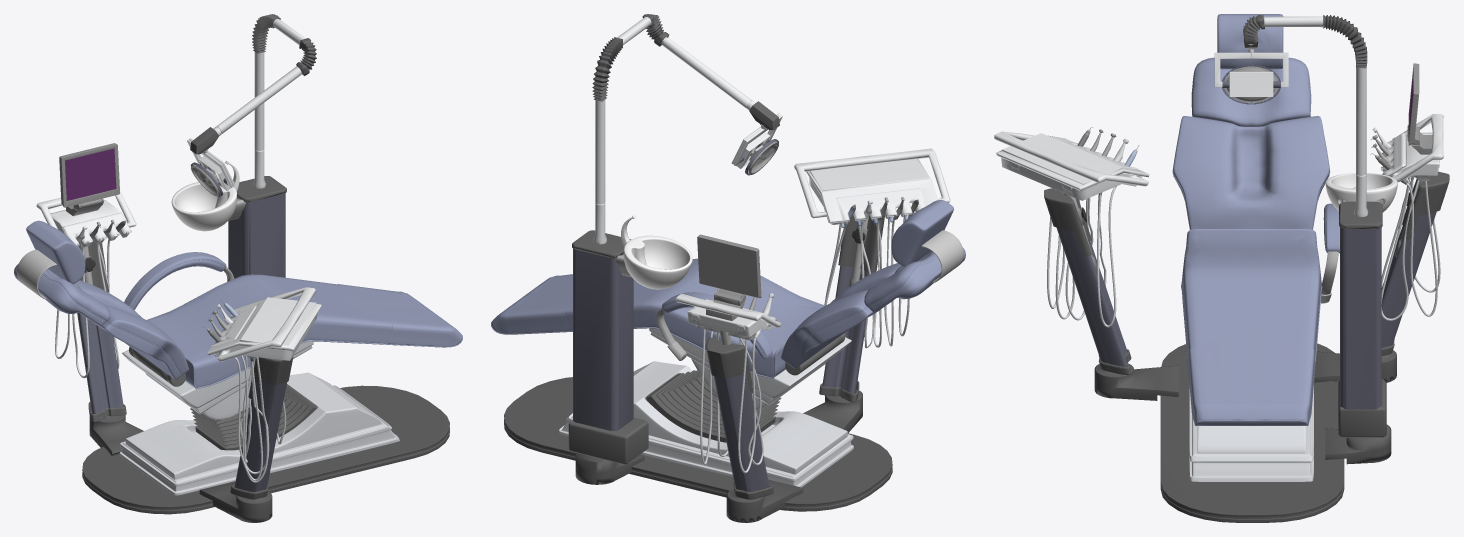
Rendered from Armchair_dental compressed.glb.
3 renders of one model, left to right at view 1: azimuth 30°, elevation 25°; view 2: azimuth 150°, elevation 25°; view 3: azimuth 270°, elevation 25°, orthographic. The views are drawn at different scales.
Parts seen in each view (by area): view 1: objArmcha4, objArmcha2, Rectangle1, objArmcha7, Rectangle0, Object03, Rectangle5, Line183, Line189, Rectangle2, Box02, Sphere01 (+19 smaller); view 2: Rectangle0, objArmcha4, Rectangle1, objArmcha2, objArmcha7, Rectangle5, ChamferBox, Line189, Box02, Object03, Arch35_022, Sphere01 (+19 smaller); view 3: objArmcha7, objArmcha2, Rectangle1, Object03, Rectangle0, objArmcha4, Line183, ChamferBox, Rectangle5, Line09, Line189, Circle01 (+17 smaller).
Boxes of the visible parts, box(x1,y1,x2,y2) form: objArmcha4: box(119, 372, 399, 495); objArmcha2: box(147, 274, 462, 389); Rectangle1: box(82, 385, 449, 506); objArmcha7: box(14, 264, 188, 379); Rectangle0: box(228, 193, 285, 278); Object03: box(337, 284, 462, 346); Rectangle5: box(207, 297, 321, 355); Line183: box(234, 380, 286, 491); Line189: box(77, 313, 123, 419); Rectangle2: box(82, 385, 449, 514); Box02: box(190, 385, 317, 450); Sphere01: box(171, 182, 236, 231); Rectangle0: box(573, 248, 633, 430); objArmcha4: box(558, 361, 853, 487); Rectangle1: box(504, 377, 892, 503); objArmcha2: box(491, 258, 824, 378); objArmcha7: box(781, 248, 965, 368); Rectangle5: box(806, 159, 937, 223); ChamferBox: box(568, 417, 648, 484); Line189: box(714, 374, 769, 491); Box02: box(646, 370, 781, 442); Object03: box(491, 274, 572, 333); Arch35_022: box(697, 234, 761, 297); Sphere01: box(623, 235, 692, 289); objArmcha7: box(1172, 57, 1330, 229); objArmcha2: box(1181, 229, 1322, 425); Rectangle1: box(1161, 343, 1343, 514); Object03: box(1188, 330, 1315, 424); Rectangle0: box(1340, 227, 1381, 409); objArmcha4: box(1189, 385, 1313, 481); Line183: box(1056, 227, 1129, 366); ChamferBox: box(1325, 379, 1391, 464); Rectangle5: box(996, 133, 1149, 190); Line09: box(994, 131, 1148, 200); Line189: box(1381, 212, 1436, 347); Circle01: box(1094, 363, 1178, 400).
Size of the model in its own units: 81.26 by 75.79 by 70.85.
